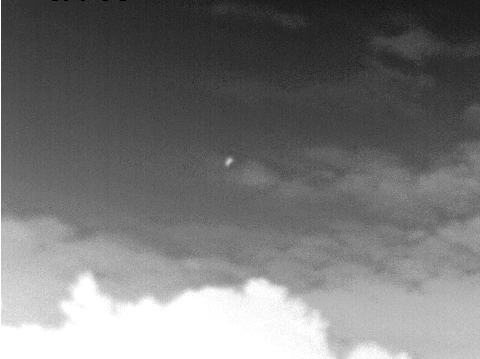dim target: (222, 156, 234, 168)
